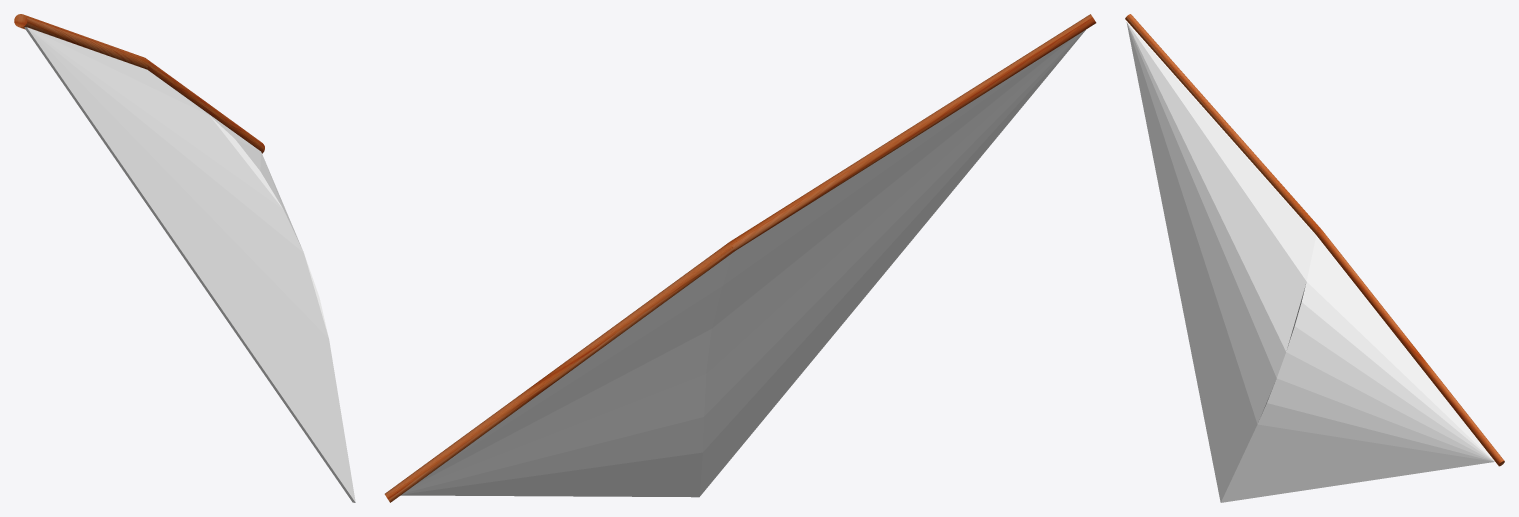
The model's file is sail1.obj.
3 renders of one model, left to right at view 1: azimuth 30°, elevation 25°; view 2: azimuth 150°, elevation 25°; view 3: azimuth 270°, elevation 25°, orthographic. The views are drawn at different scales.
Parts seen in each view (by area): view 1: Cloth1_Plane.001, Sail1_Cylinder.001; view 2: Cloth1_Plane.001, Sail1_Cylinder.001; view 3: Cloth1_Plane.001, Sail1_Cylinder.001.
Boxes of the visible parts, x1=… form: Cloth1_Plane.001: x1=24, y1=27, x2=355, y2=502; Sail1_Cylinder.001: x1=14, y1=14, x2=264, y2=153; Cloth1_Plane.001: x1=401, y1=30, x2=1085, y2=497; Sail1_Cylinder.001: x1=384, y1=14, x2=1096, y2=502; Cloth1_Plane.001: x1=1126, y1=21, x2=1494, y2=502; Sail1_Cylinder.001: x1=1125, y1=14, x2=1504, y2=466.
Bounding box in the file's own units: 4.24 × 4.59 × 4.24.
Materials: 1 (1 with a texture image).
